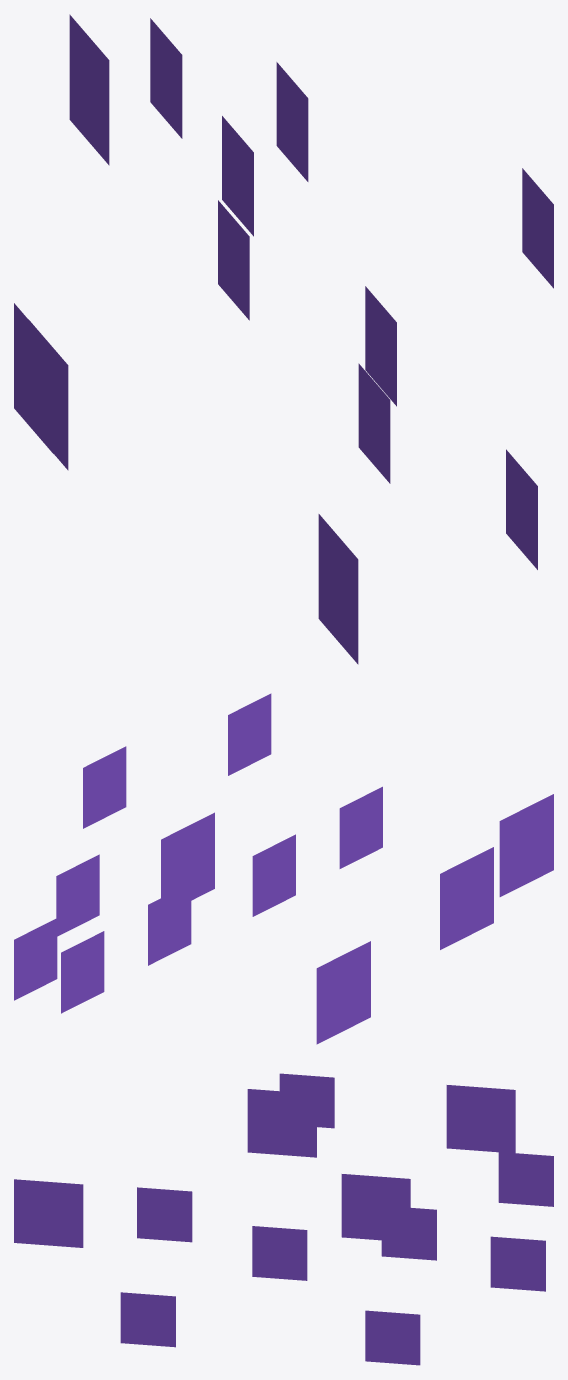
The model's file is groepvogels.obj.
3 renders of one model, top to bottom at view 1: azimuth 30°, elevation 25°; view 2: azimuth 150°, elevation 25°; view 3: azimuth 270°, elevation 25°, orthographic. The views are drawn at different scales.
Visible parts, largest first — view 1: Plane064, Plane058, Plane055, Plane059, Plane065, Plane056, Plane057, Plane066, Plane060, Plane062, Plane063, Plane061; view 2: Plane061, Plane058, Plane064, Plane055, Plane056, Plane060, Plane057, Plane059, Plane063, Plane065, Plane066, Plane062; view 3: Plane058, Plane064, Plane061, Plane055, Plane060, Plane066, Plane056, Plane057, Plane059, Plane062, Plane063, Plane065.
Part boxes in pixels (bbox=[...]): Plane064: bbox=[69, 14, 109, 165]; Plane058: bbox=[318, 514, 358, 664]; Plane055: bbox=[14, 303, 53, 453]; Plane059: bbox=[358, 363, 390, 483]; Plane065: bbox=[150, 18, 182, 138]; Plane056: bbox=[276, 62, 308, 181]; Plane057: bbox=[522, 168, 553, 288]; Plane066: bbox=[222, 116, 253, 236]; Plane060: bbox=[506, 449, 537, 569]; Plane062: bbox=[218, 200, 249, 320]; Plane063: bbox=[365, 286, 396, 406]; Plane061: bbox=[28, 319, 68, 470]; Plane061: bbox=[316, 941, 370, 1044]; Plane058: bbox=[499, 794, 553, 896]; Plane064: bbox=[161, 812, 214, 915]; Plane055: bbox=[440, 847, 493, 949]; Plane056: bbox=[228, 693, 271, 775]; Plane060: bbox=[252, 834, 295, 916]; Plane057: bbox=[83, 746, 126, 828]; Plane059: bbox=[339, 786, 382, 868]; Plane063: bbox=[61, 931, 104, 1013]; Plane065: bbox=[56, 854, 99, 936]; Plane066: bbox=[14, 919, 57, 1000]; Plane062: bbox=[148, 898, 191, 965]; Plane058: bbox=[14, 1179, 83, 1247]; Plane064: bbox=[446, 1085, 515, 1153]; Plane061: bbox=[341, 1174, 410, 1240]; Plane055: bbox=[247, 1089, 316, 1157]; Plane060: bbox=[120, 1292, 175, 1347]; Plane066: bbox=[490, 1236, 545, 1291]; Plane056: bbox=[279, 1073, 334, 1128]; Plane057: bbox=[252, 1226, 307, 1280]; Plane059: bbox=[137, 1187, 192, 1242]; Plane062: bbox=[381, 1205, 436, 1260]; Plane063: bbox=[365, 1310, 420, 1365]; Plane065: bbox=[498, 1152, 553, 1206].
Bounding box in the file's own units: 3.74 × 2.76 × 5.6.
